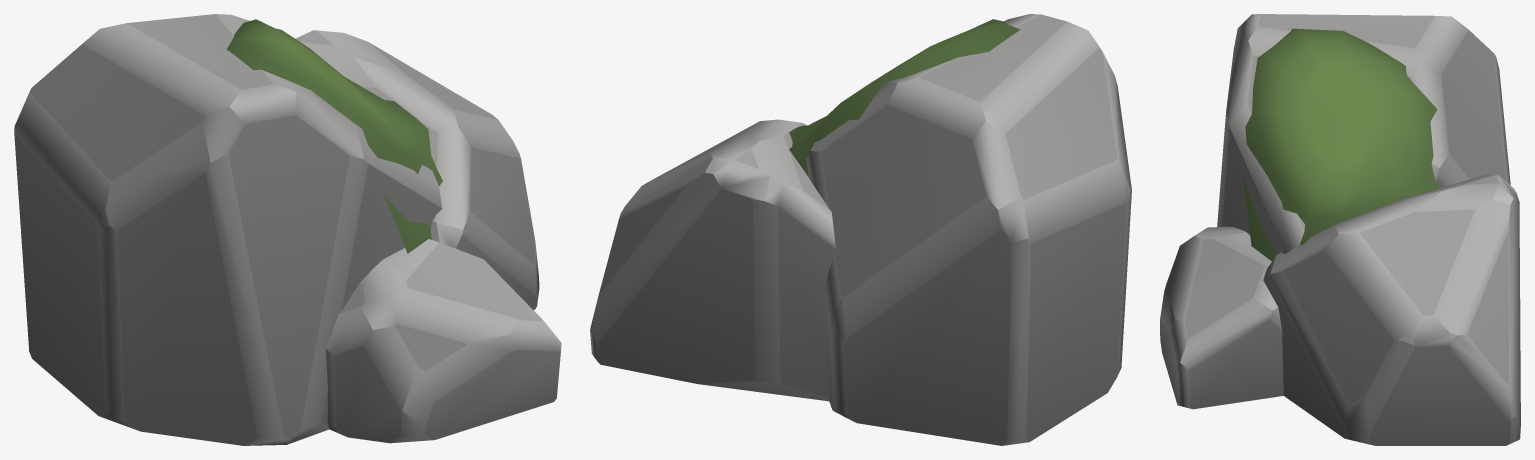
File: rock_cobble.glb
3 renders of one model, left to right at view 1: azimuth 30°, elevation 25°; view 2: azimuth 150°, elevation 25°; view 3: azimuth 270°, elevation 25°, orthographic. The views are drawn at different scales.
Parts seen in each view (by area): view 1: rock_cobble_LOD0; view 2: rock_cobble_LOD0; view 3: rock_cobble_LOD0.
Boxes of the visible parts, bbox=[...] form: rock_cobble_LOD0: bbox=[14, 14, 561, 445]; rock_cobble_LOD0: bbox=[590, 14, 1131, 445]; rock_cobble_LOD0: bbox=[1160, 14, 1520, 445].
Size of what is drawn, in the model's own units: 0.8513 by 0.5931 by 0.6742.
